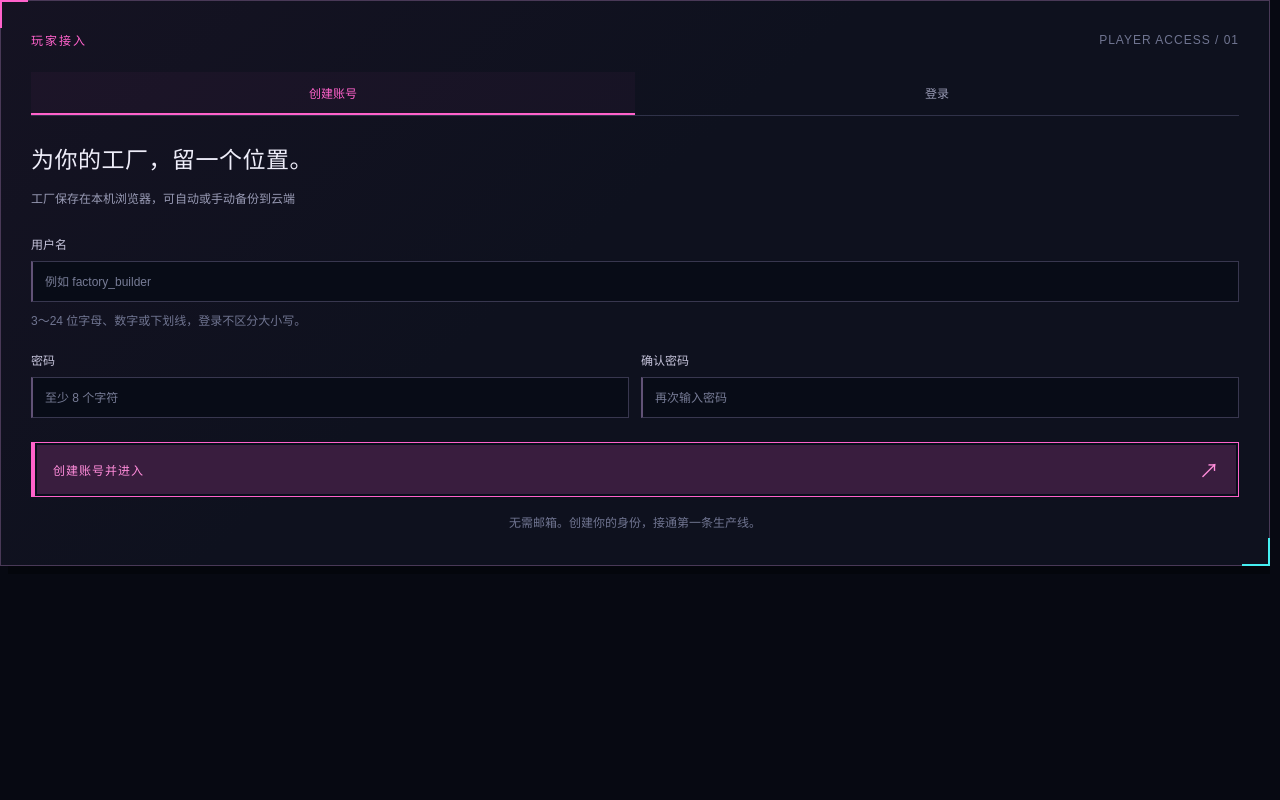
Test: account UI › rejects password mismatch without sending credentials
Expected: the heading "为你的工厂，留一个位置。" is shown, [31,147,313,173]
In the field labelled "用户名": (635, 282) [31,261,1239,302], type "factory_user"
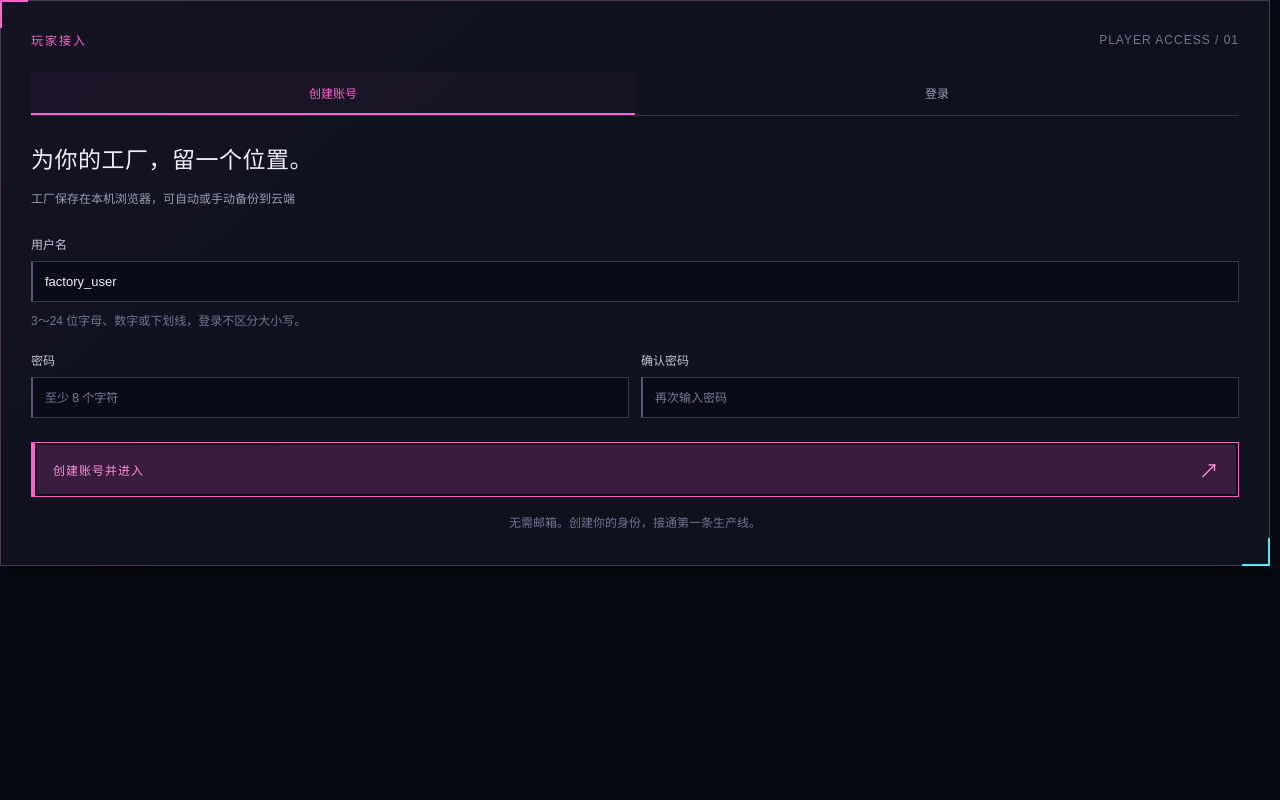
In the password field labelled "密码": (330, 398) [31,377,629,418], type "correct-password"
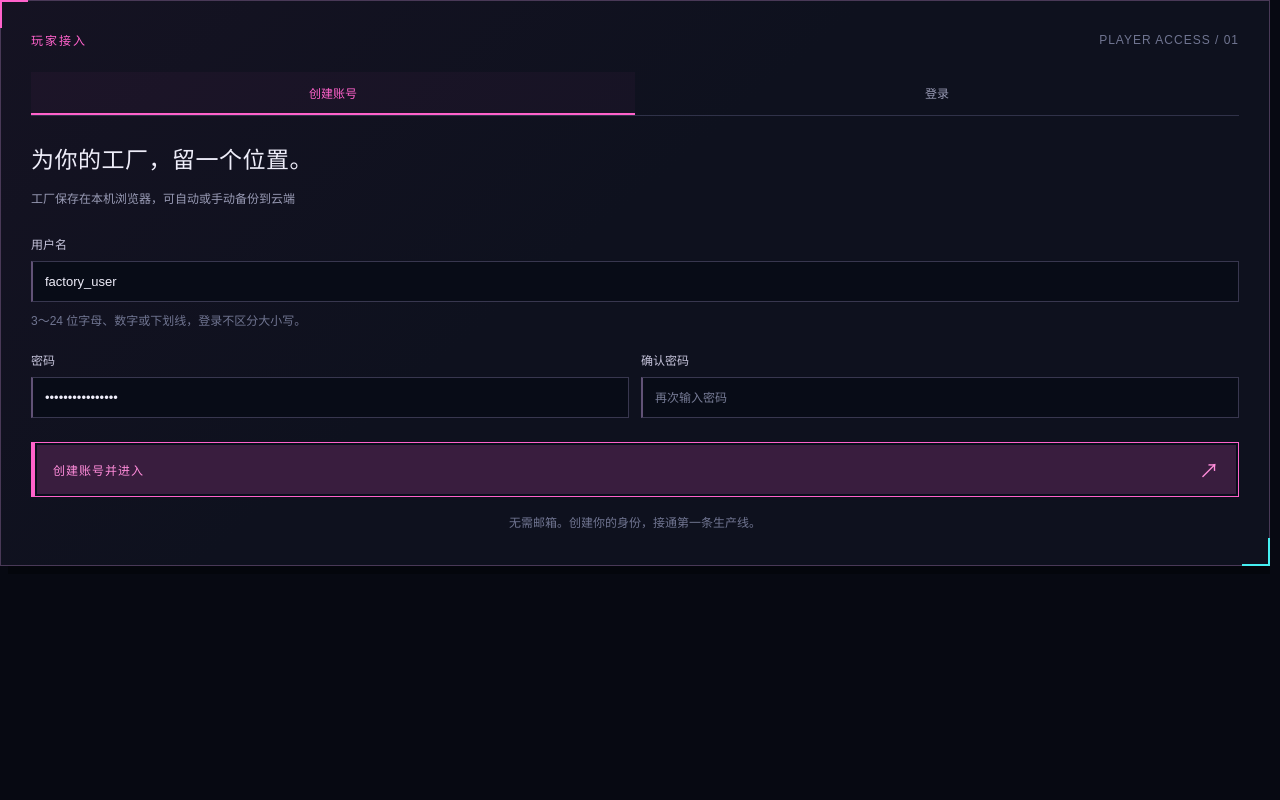
In the password field labelled "确认密码": (940, 398) [641,377,1239,418], type "different-password"
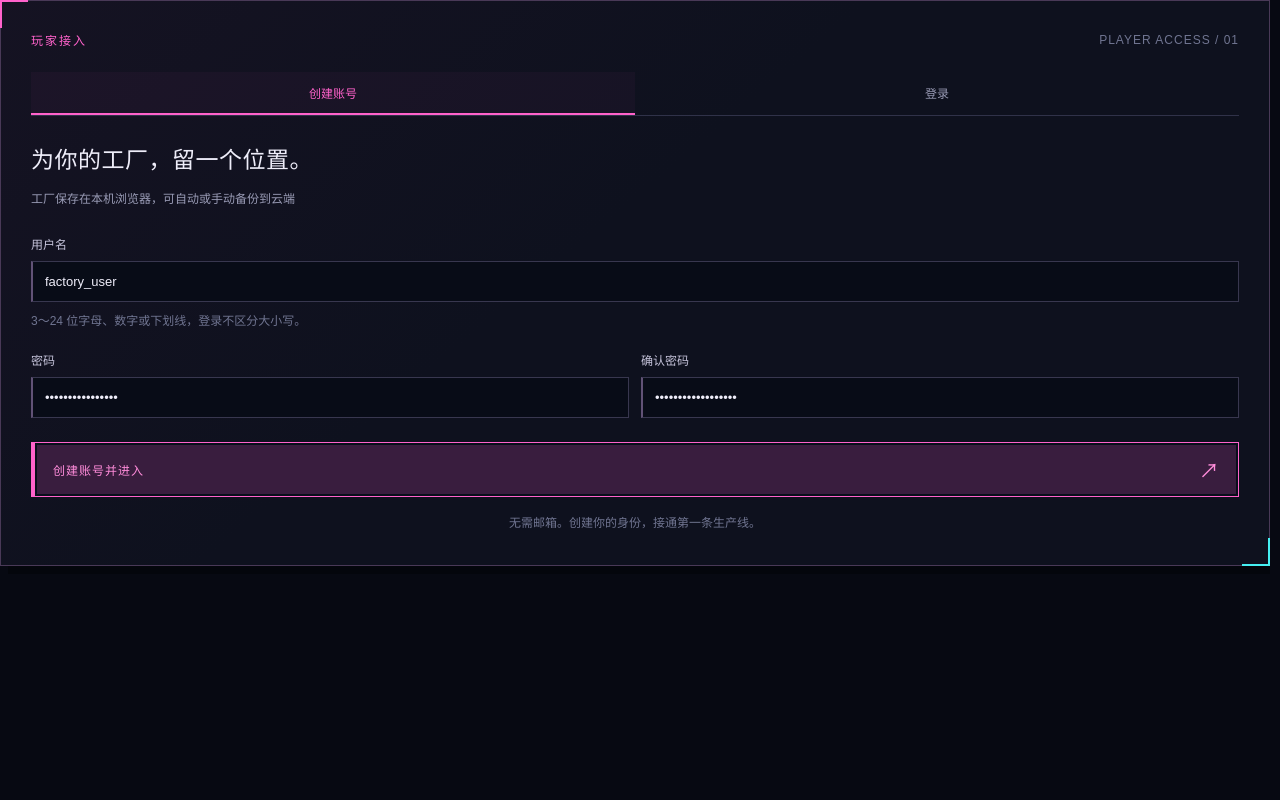
Click the button "创建账号并进入 ↗": (99, 471) [31,442,1239,497]
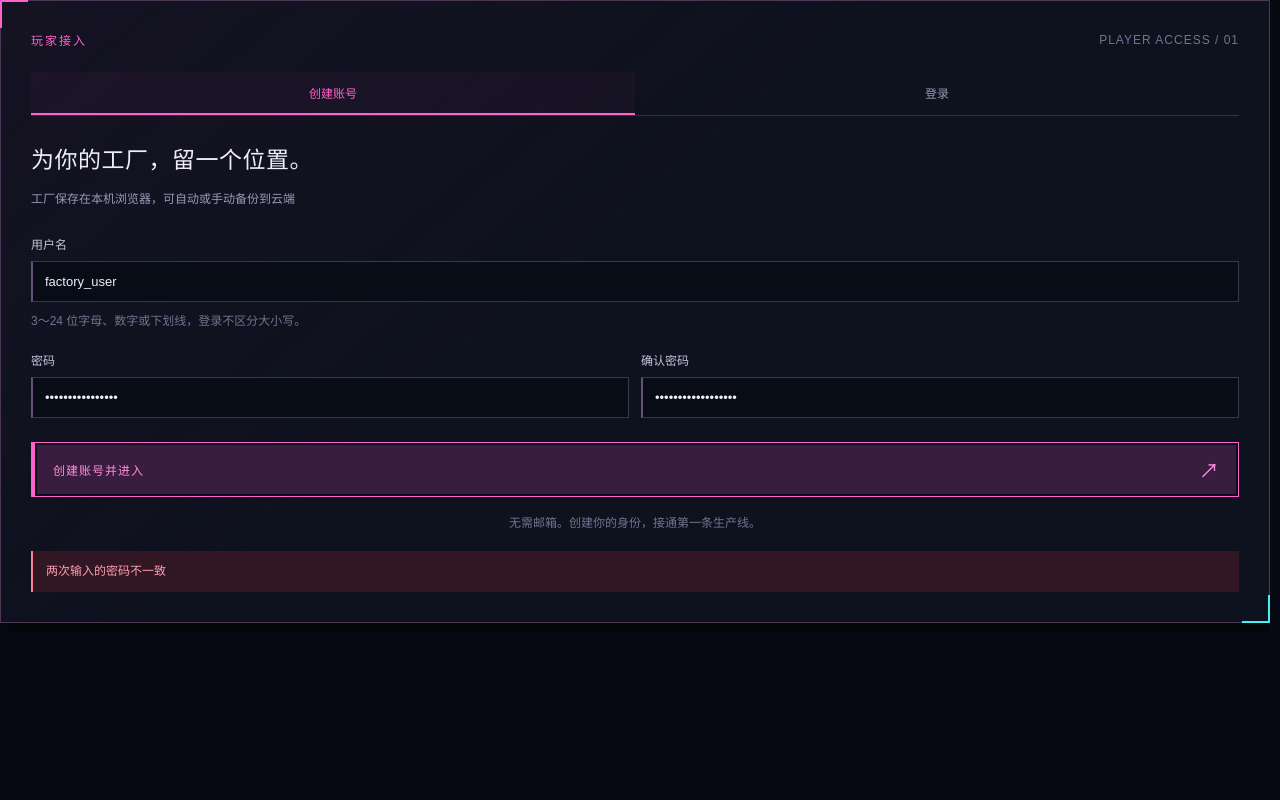
Expected: the message reads "两次输入的密码不一致", [46,564,166,578]
